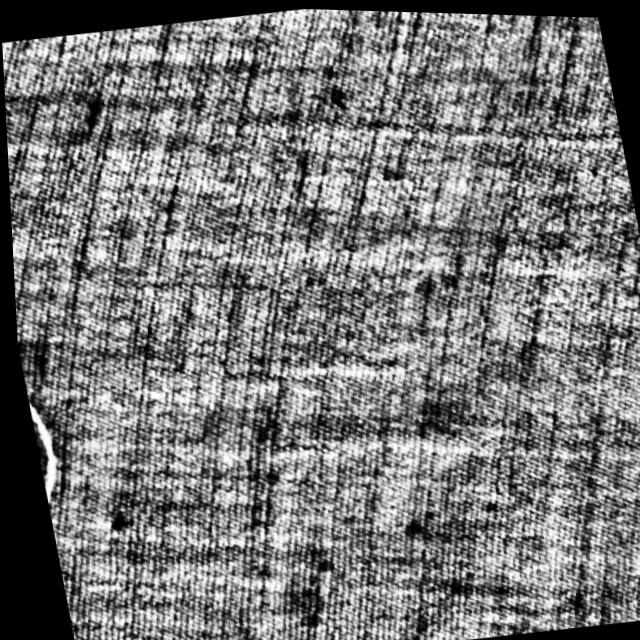Stitch: (11, 386, 80, 520)
